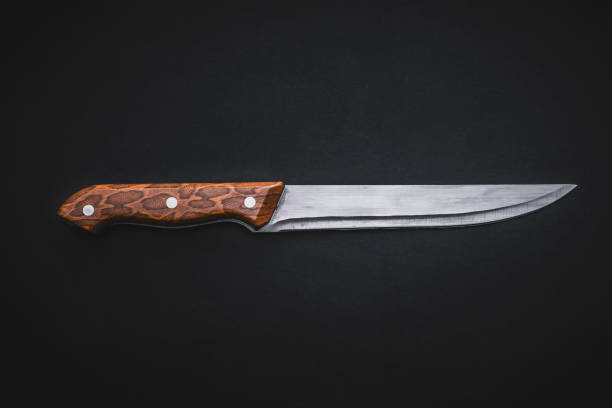knife: (55, 179, 580, 237)
